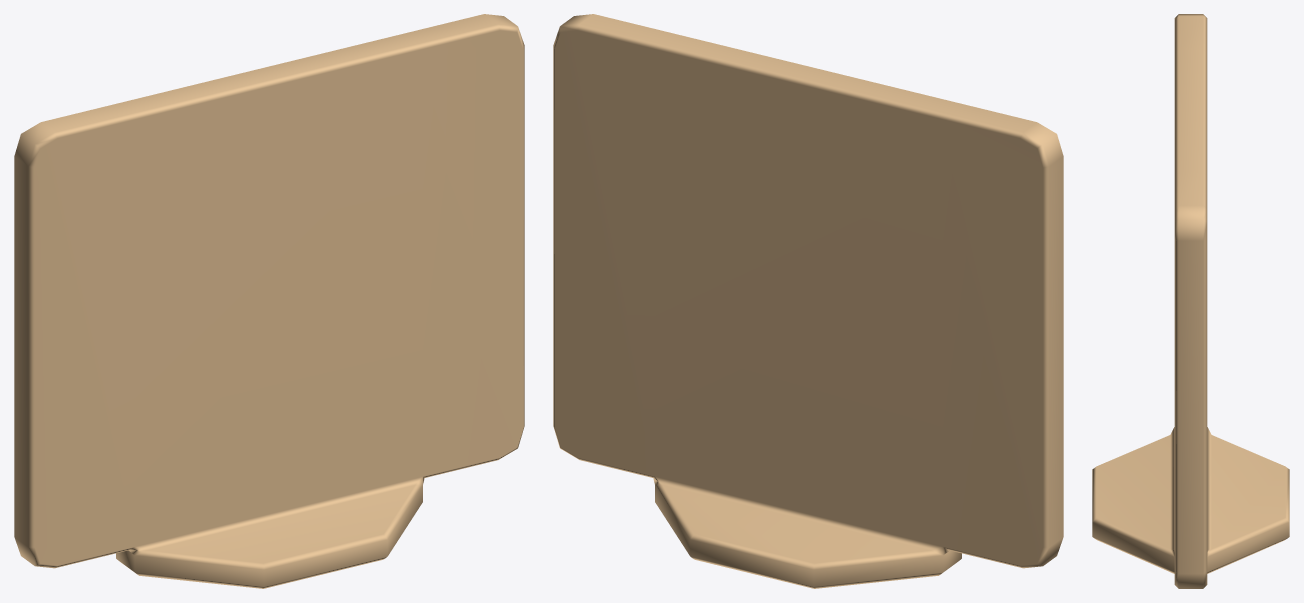
File: SM_Sign_01.FBX
The picture shows the model from 3 angles, left to right: view 1: azimuth 30°, elevation 25°; view 2: azimuth 150°, elevation 25°; view 3: azimuth 270°, elevation 25°; orthographic projection. The views are drawn at different scales.
Parts seen in each view (by area): view 1: Sign_01; view 2: Sign_01; view 3: Sign_01.
Boxes of the visible parts, x1,y1,x2,y2 form: Sign_01: [14, 14, 524, 588]; Sign_01: [553, 14, 1063, 588]; Sign_01: [1092, 14, 1289, 588].
Size of the model in its own units: 11.91 by 10.59 by 4.69.
